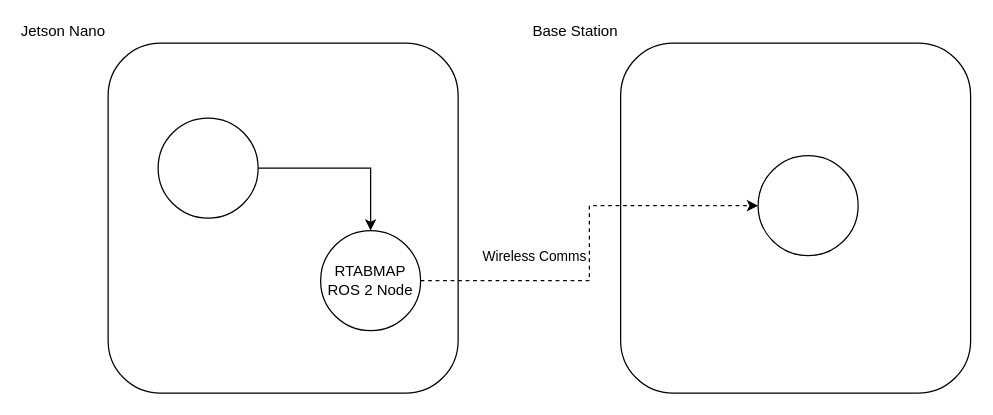
The diagram is 993 pixels wide and 415 high, and some of its shapes have lost their labels. Here are the shapes that lost their labels. From the top down, the box of each, then its label:
(157, 117, 258, 218): D435i ROS 2 Nodel
(757, 154, 858, 256): Rviz2 ROS 2 Node
